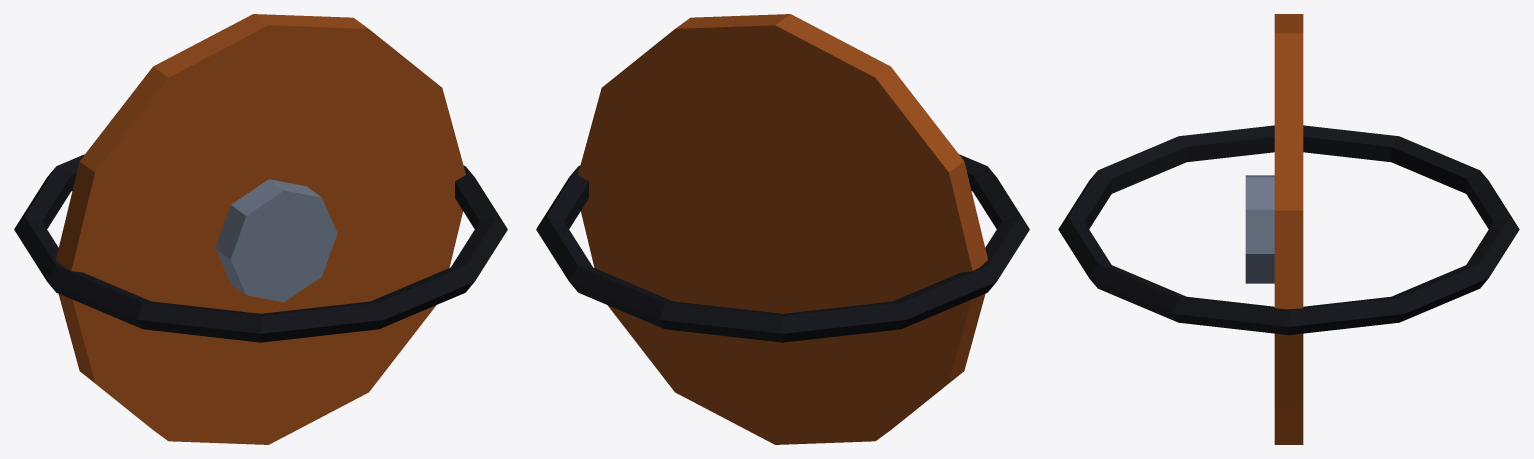
The model's file is round_shield.obj.
3 views of the same model, side by side, from view 1: azimuth 30°, elevation 25°; view 2: azimuth 150°, elevation 25°; view 3: azimuth 270°, elevation 25° (orthographic). The views are drawn at different scales.
Visible parts, largest first — view 1: round_shield; view 2: round_shield; view 3: round_shield.
Part boxes in pixels (box(x1,y1,x2,y2)): round_shield: box(14, 14, 507, 444); round_shield: box(536, 14, 1029, 444); round_shield: box(1058, 14, 1519, 444).
Size of the model in its own units: 0.96 by 0.9 by 0.96.
